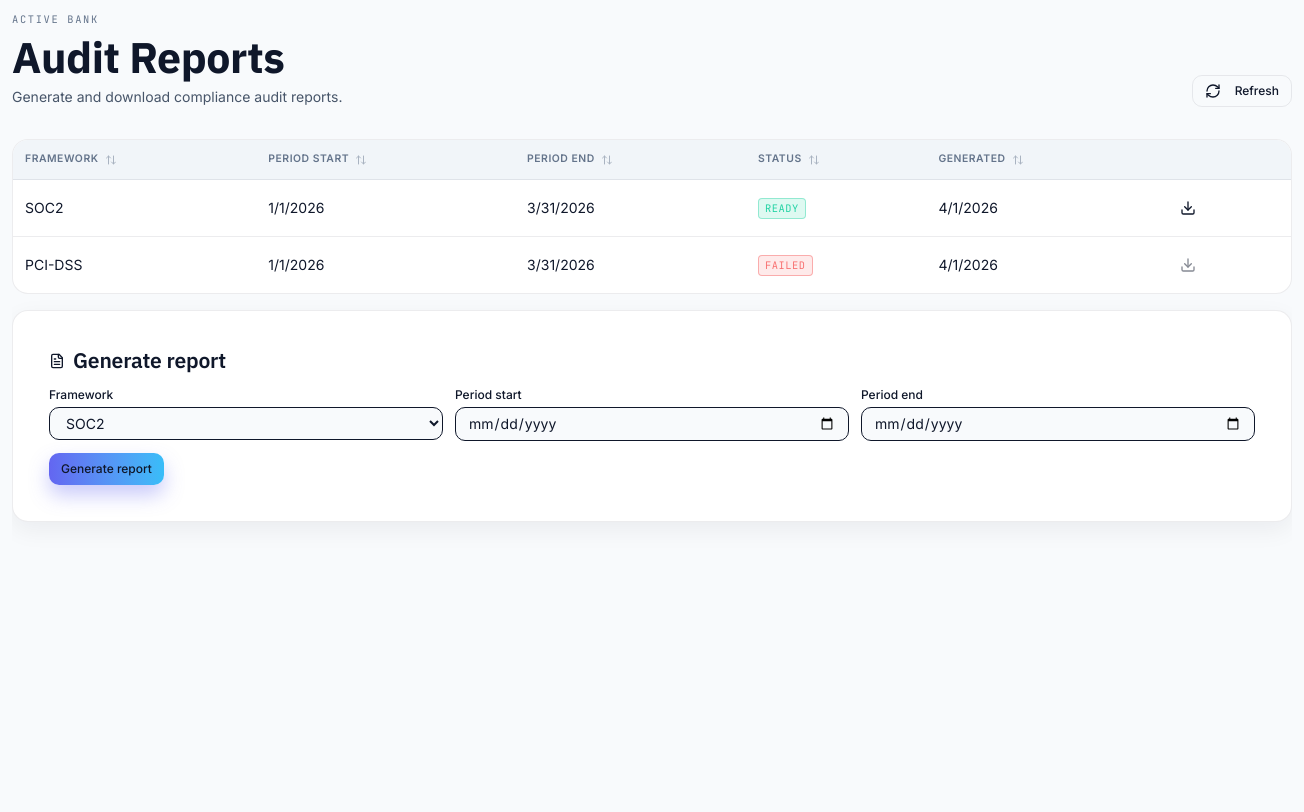
Test case: AuditReports production hardening › keeps download failures visible and disables failed report downloads
What coordinates should you click on to do the following:
click the button named "download soc2 report"
I would click on:
 (1188, 208)
Its box is [1168,192,1208,224].
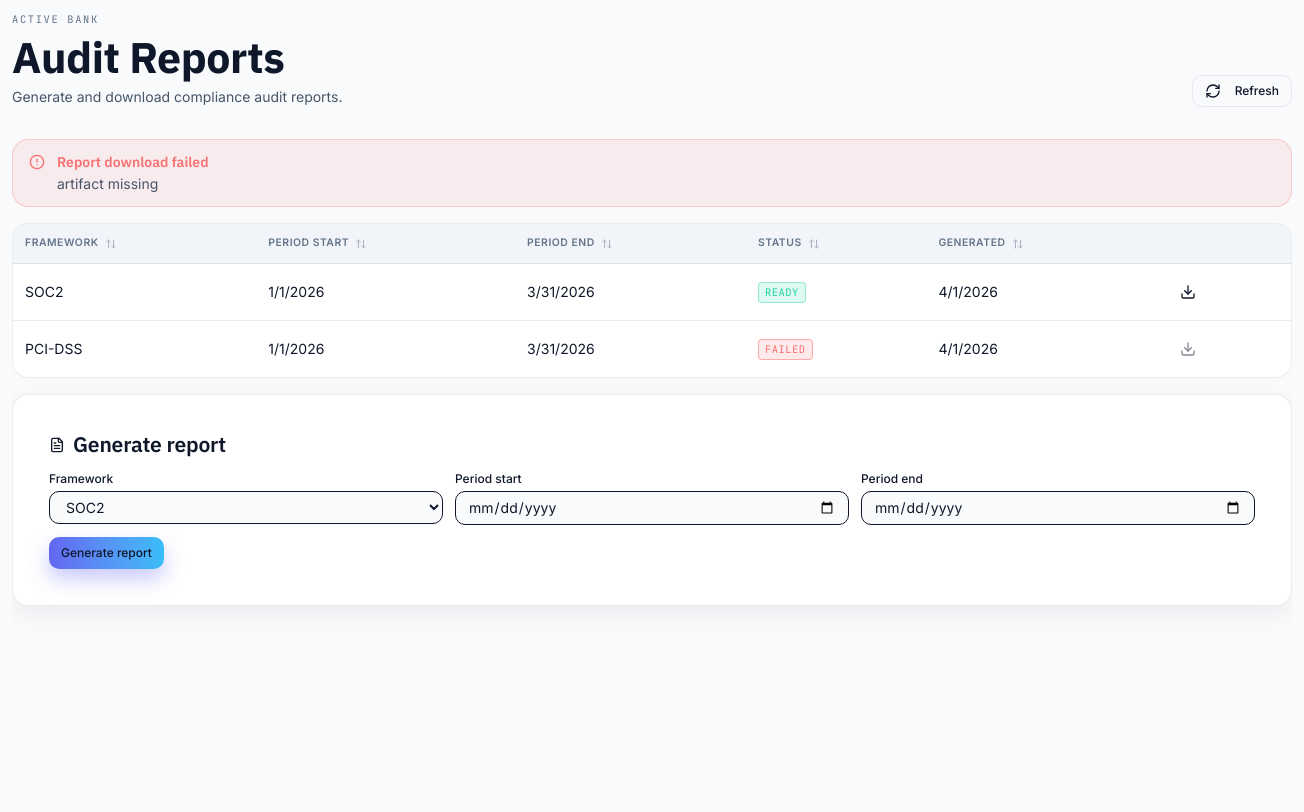
Expected: the text "PCI-DSS" is shown, [25,340,82,357]
Expected: the text "Report download failed" is shown, [57,153,209,171]
Expected: the message shows "artifact missing", [57,175,158,192]
